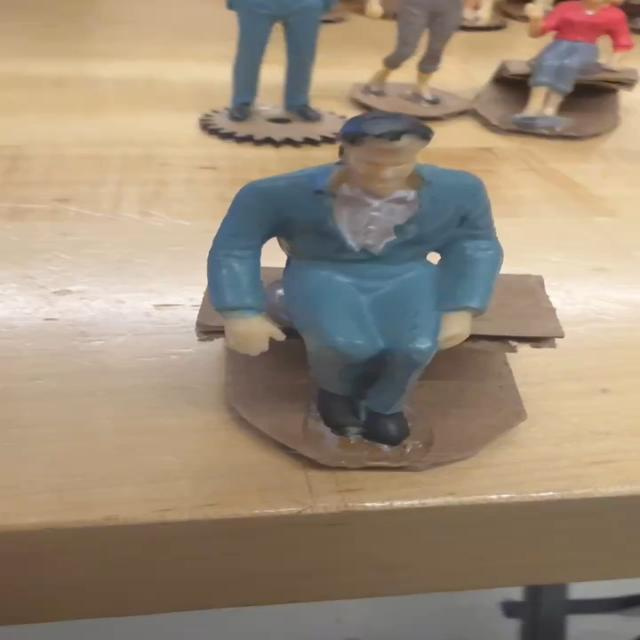Authorized: (185, 100, 549, 464)
